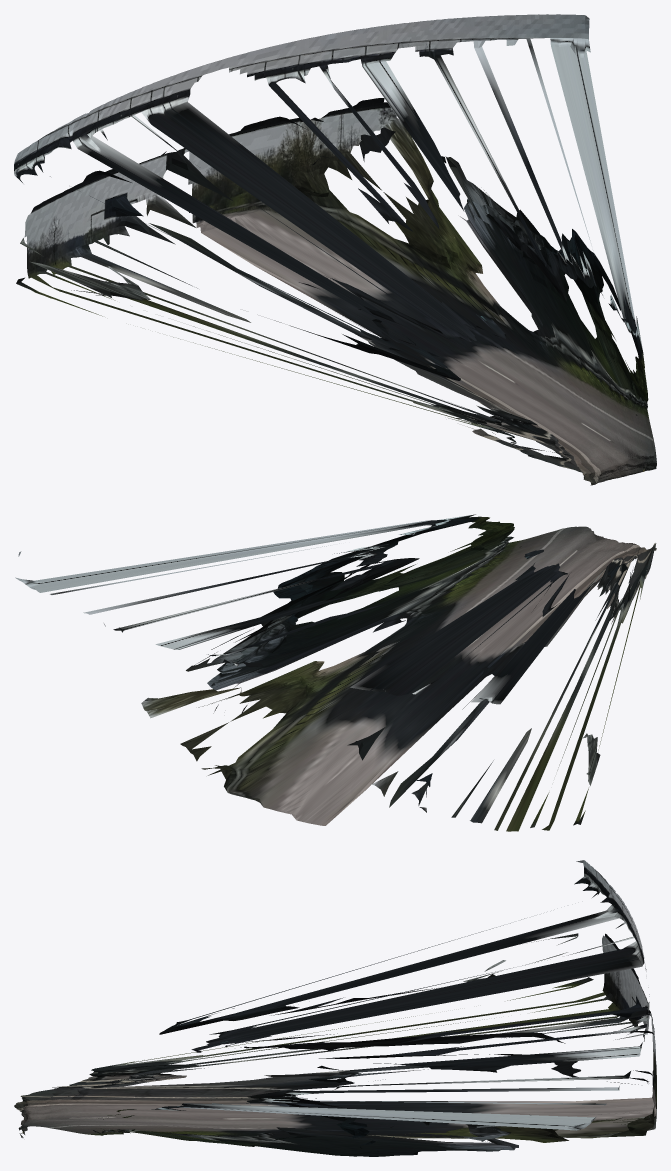
3 renders of one model, top to bottom at view 1: azimuth 30°, elevation 25°; view 2: azimuth 150°, elevation 25°; view 3: azimuth 270°, elevation 25°, orthographic. The views are drawn at different scales.
Parts seen in each view (by area): view 1: defaultobject; view 2: defaultobject; view 3: defaultobject.
Part boxes in pixels (<box>): defaultobject: <box>14,14,656,485</box>; defaultobject: <box>15,514,656,831</box>; defaultobject: <box>14,860,656,1156</box>.
Size of the model in its own units: 40.66 by 11.81 by 44.66.
1 material, 1 textured.
